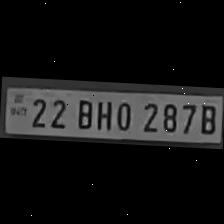0: (110, 98, 134, 130)
2: (45, 94, 69, 128), (136, 98, 160, 132), (26, 93, 48, 127)
7: (177, 99, 197, 133)
8: (158, 98, 178, 132)
B: (71, 94, 95, 128), (196, 100, 218, 134)
H: (92, 96, 114, 130)
